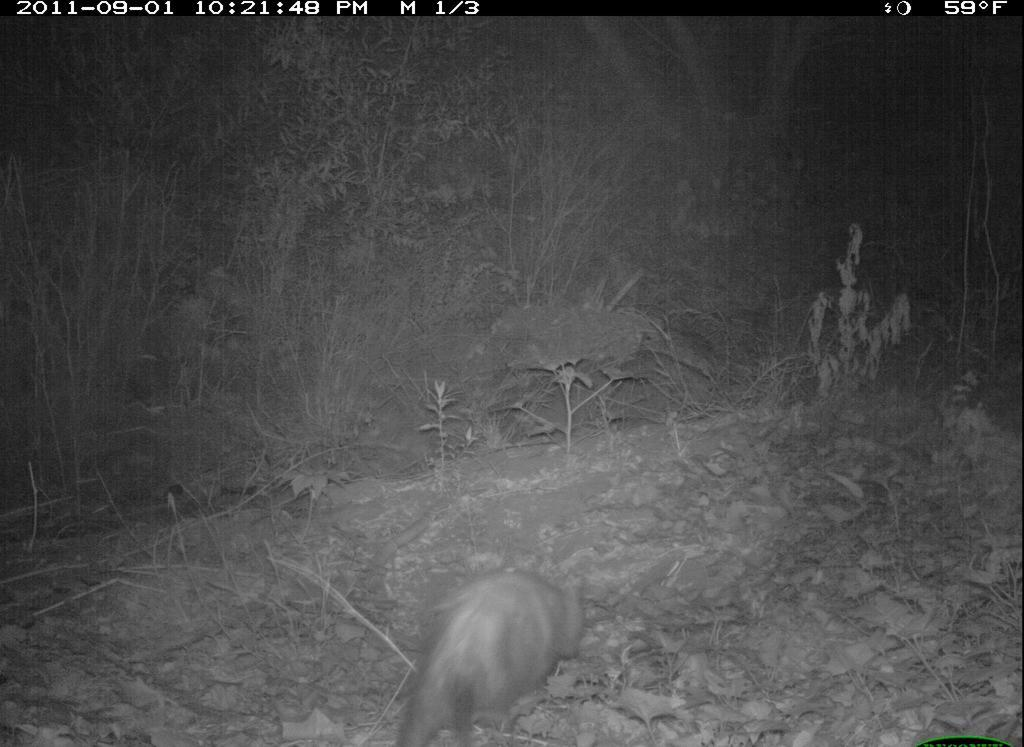opossum: (374, 553, 621, 745)
